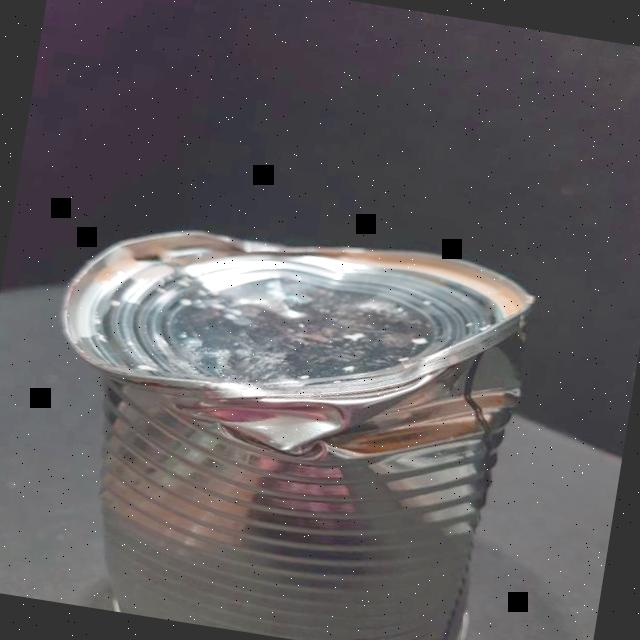can: (10, 192, 550, 640)
